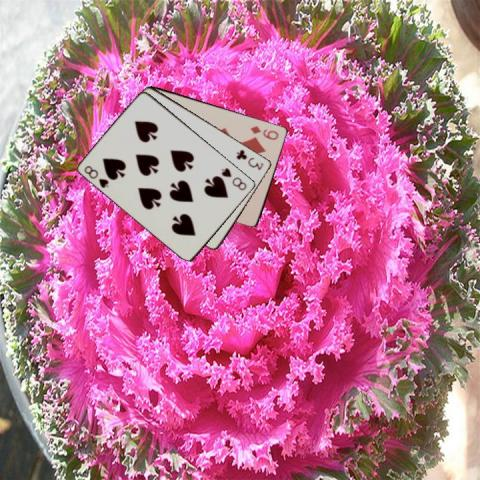3c: (234, 147, 266, 171)
8s: (218, 165, 249, 192), (81, 163, 111, 189)
9d: (247, 123, 280, 141)
